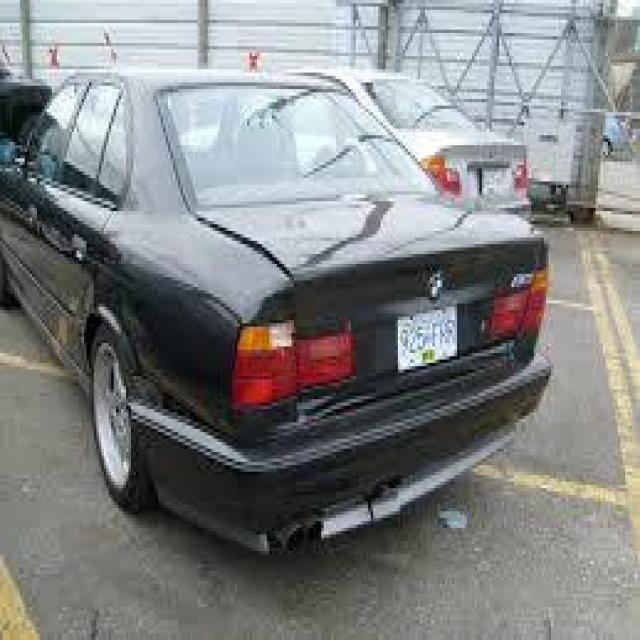damaged: (128, 356, 250, 472), (361, 475, 403, 521)
